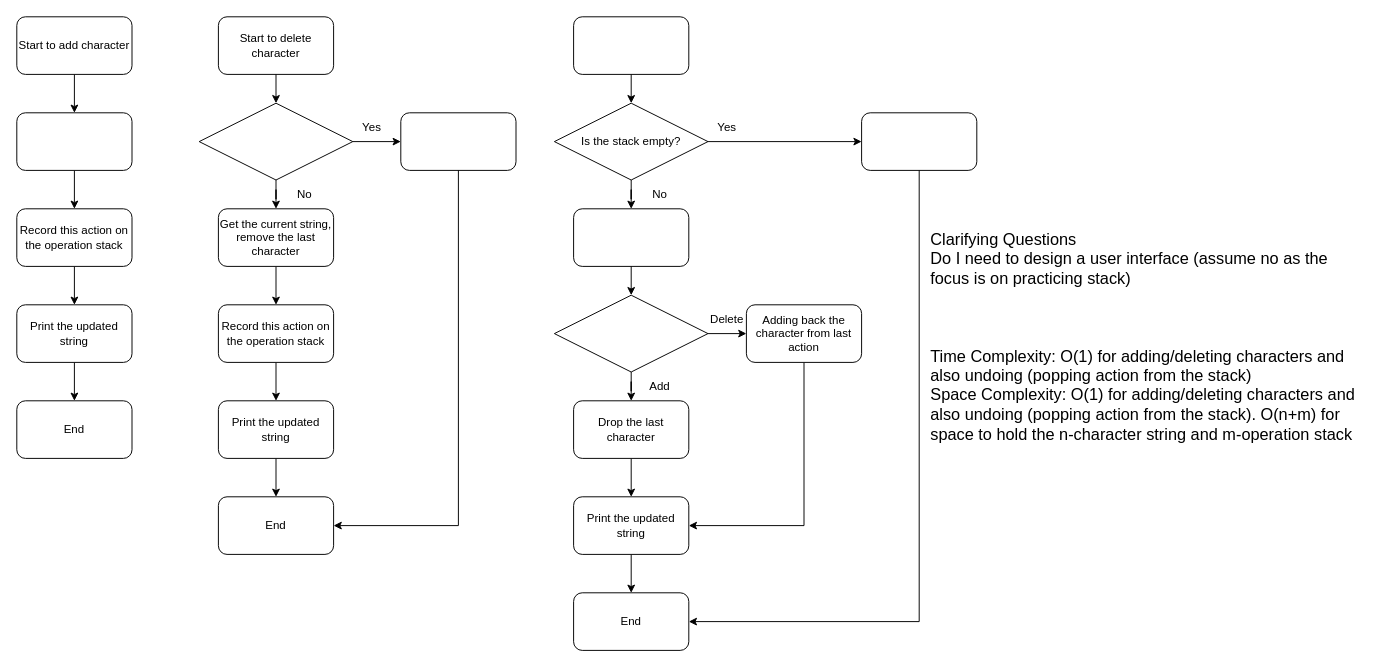
Some shapes in this 1387 by 667 pixel diagram are drawn without their labels. The centre of each missing label's shape, as x and y in pixels:
Get the current string, and the character to add: [74,141]
Is the last action add or delete?: [630,333]
Is the string empty?: [275,141]
Pop the last action: [631,237]
Print the alert about no action left to undo: [919,141]
Print the alert about the string being empty: [458,141]
Start to undo last action in operation stack: [631,45]
